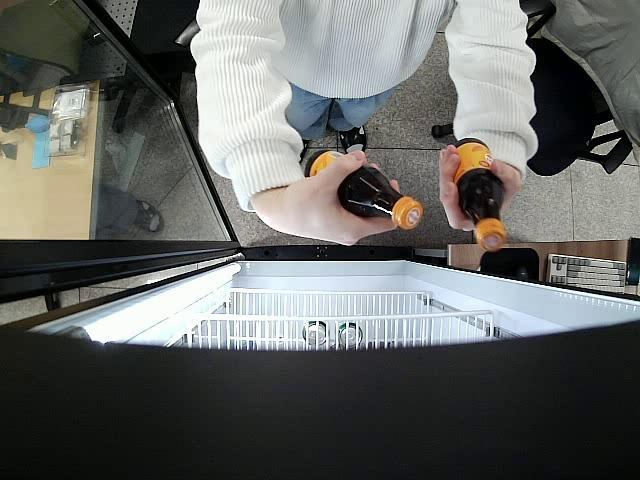17_vita500: (305, 150, 424, 232), (453, 137, 508, 252)
